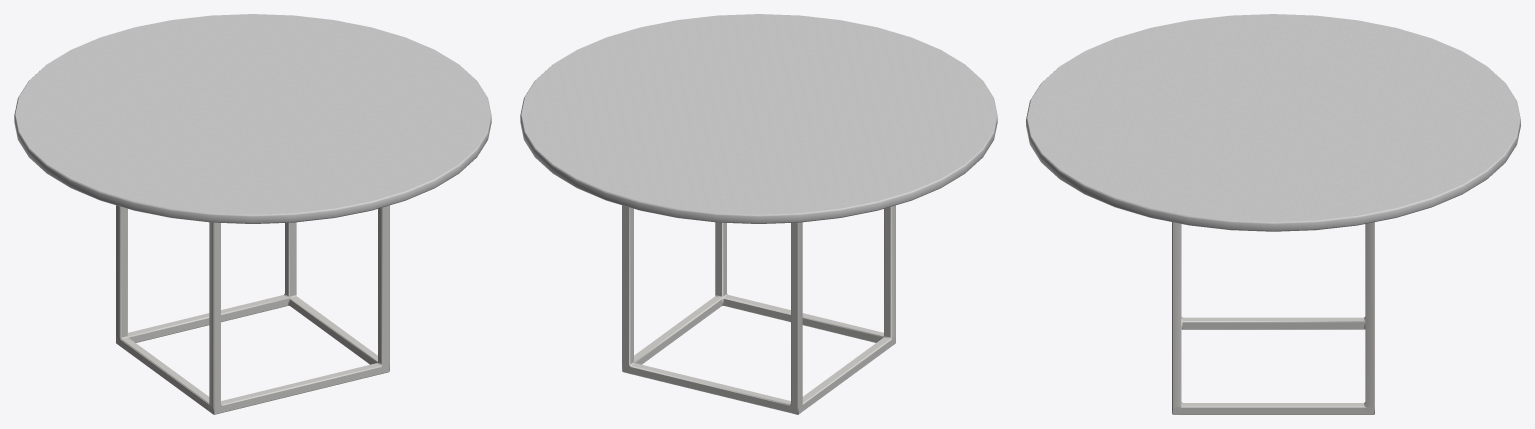
File: Table04.FBX
3 views of the same model, side by side, from view 1: azimuth 30°, elevation 25°; view 2: azimuth 150°, elevation 25°; view 3: azimuth 270°, elevation 25° (orthographic). The views are drawn at different scales.
Visible parts, largest first — view 1: Table04; view 2: Table04; view 3: Table04.
Boxes of the visible parts, <box> form: Table04: <box>14,14,491,414</box>; Table04: <box>520,14,997,414</box>; Table04: <box>1026,14,1520,414</box>.
Bounding box in the file's own units: 133 × 75 × 133.
